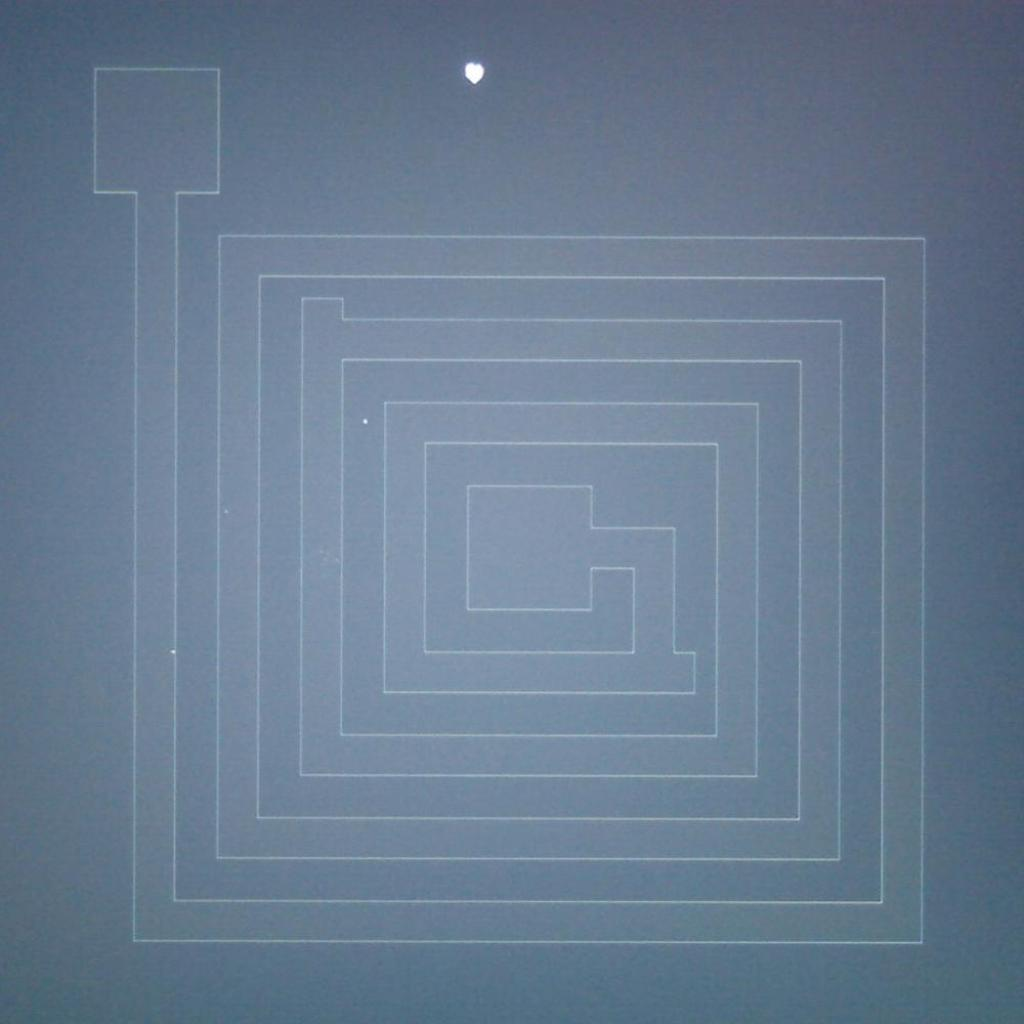Bdot: (463, 61, 486, 85)
dot: (362, 419, 368, 424), (170, 650, 176, 654), (224, 510, 228, 514)
